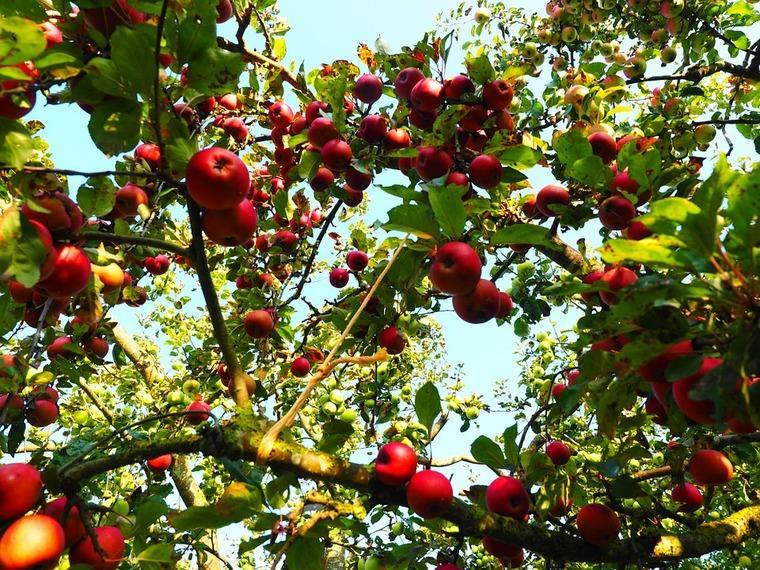apple: (431, 241, 507, 321), (184, 146, 250, 211), (1, 511, 64, 567), (28, 245, 89, 298), (425, 239, 480, 296), (201, 197, 259, 248), (452, 278, 513, 324), (484, 474, 530, 521), (373, 439, 416, 487), (574, 503, 620, 547), (687, 448, 733, 487), (585, 265, 636, 292), (416, 146, 451, 183), (598, 195, 635, 230), (467, 153, 502, 189), (113, 182, 148, 217), (534, 183, 569, 217), (319, 137, 352, 172), (305, 116, 339, 148), (411, 78, 444, 110), (586, 132, 617, 165), (89, 258, 123, 288), (482, 78, 513, 109), (243, 309, 273, 338), (442, 74, 473, 102), (133, 141, 161, 170), (355, 74, 383, 103), (28, 398, 57, 426), (671, 483, 702, 509), (377, 325, 405, 353), (47, 336, 77, 361), (222, 117, 248, 143), (81, 334, 108, 359), (544, 440, 569, 466), (269, 102, 294, 128), (621, 219, 651, 240), (303, 100, 328, 124), (310, 166, 334, 191), (143, 253, 169, 276), (120, 285, 147, 306), (290, 356, 311, 377), (217, 93, 240, 111), (445, 173, 467, 186), (292, 117, 305, 133)
